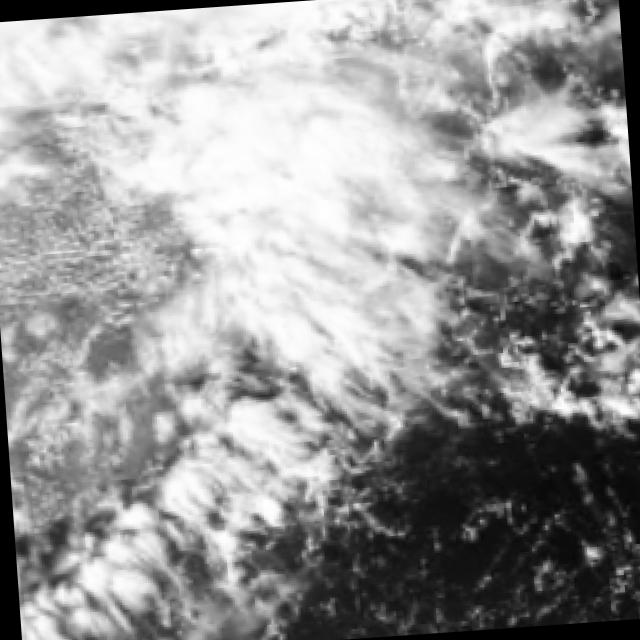CB: (191, 97, 358, 242)
